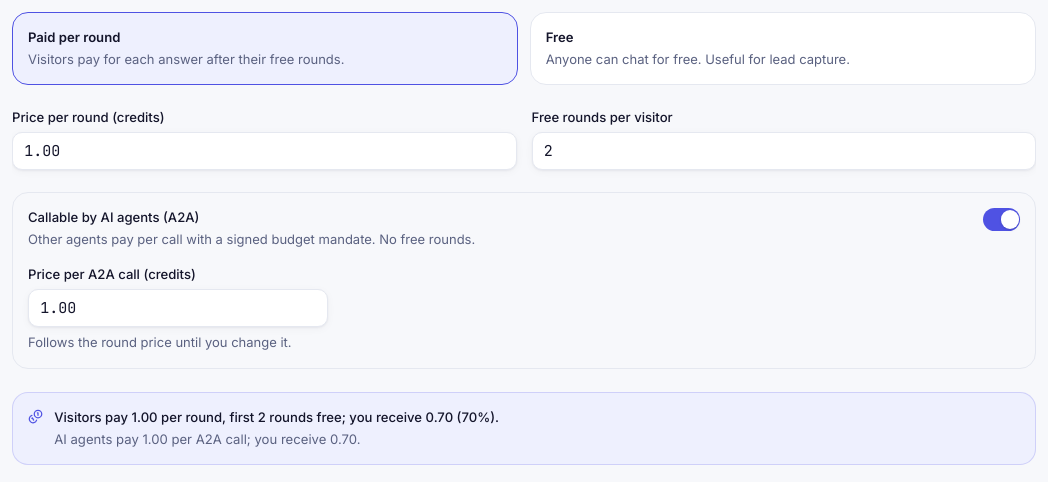
Scenario: PricingFields › switches to free mode
What coordinates should you click on to do the following:
click the radio button labelled "Free Anyone can chat for free. Useful for lead capture."
I would click on:
 (783, 49)
Its box is [530,12,1036,85].
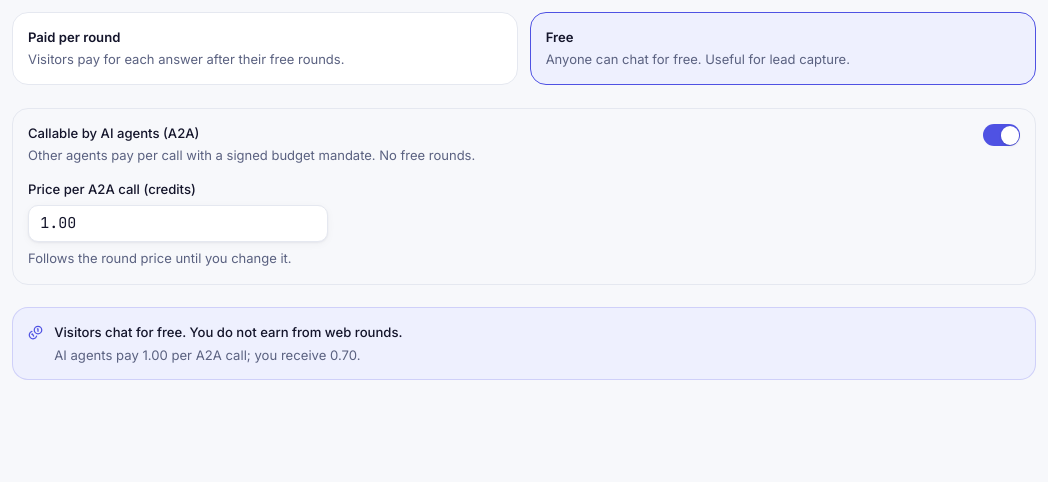
expect the label labelled "Price per round (credits)" is gone: met
expect the element with test id "pricing-line" shows "Visitors chat for free.": met, box [54,324,402,340]
